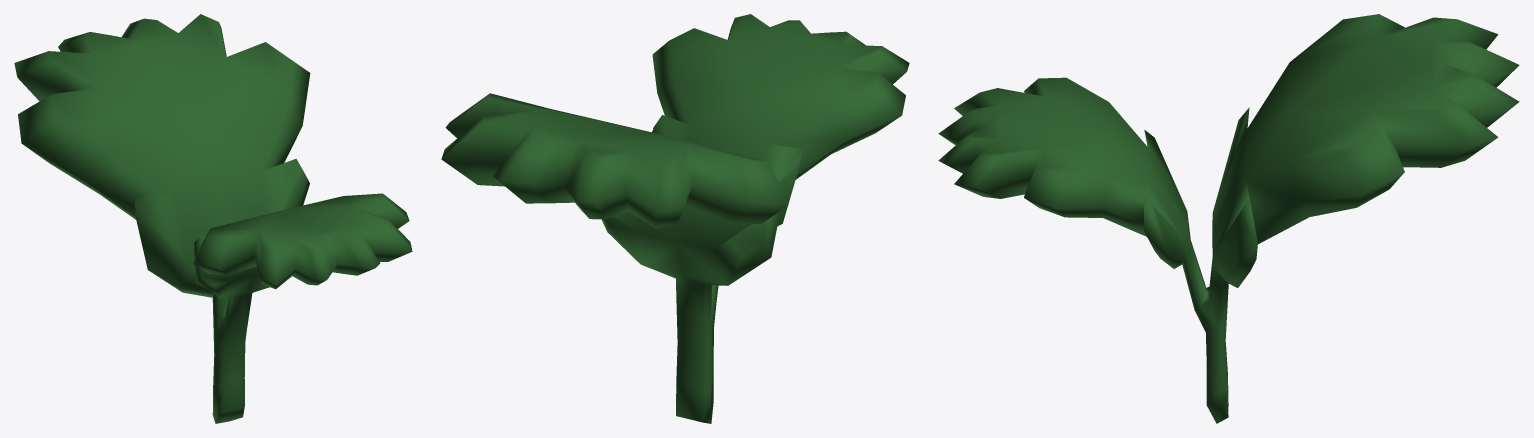
File: agronomy_carrot_intermediate.fbx
The picture shows the model from 3 angles, left to right: view 1: azimuth 30°, elevation 25°; view 2: azimuth 150°, elevation 25°; view 3: azimuth 270°, elevation 25°; orthographic projection. The views are drawn at different scales.
Visible parts, largest first — view 1: intermediate-carrot; view 2: intermediate-carrot; view 3: intermediate-carrot.
Boxes of the visible parts, x1,y1,x2,y2 form: intermediate-carrot: (14,14,412,423); intermediate-carrot: (441,14,909,423); intermediate-carrot: (938,14,1519,423).
Bounding box in the file's own units: 30.91 × 32.03 × 47.16.
